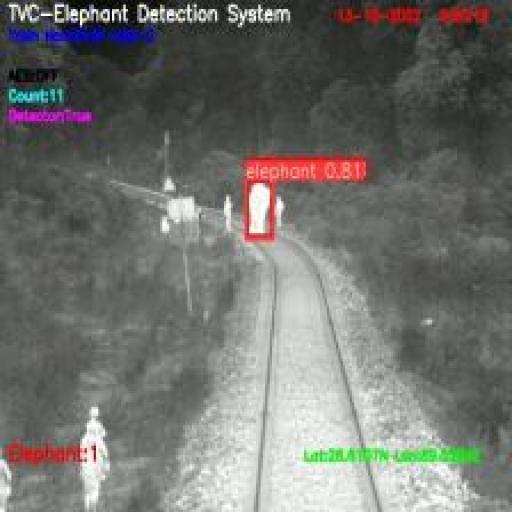Elephant: (247, 181, 274, 240)
